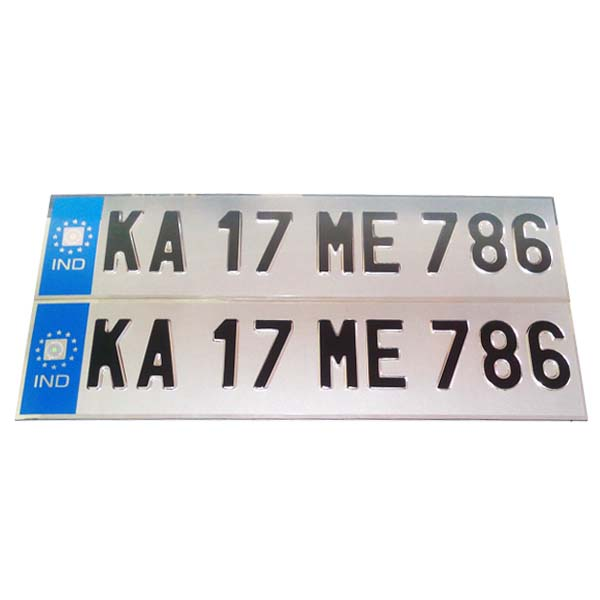inlp: (14, 301, 582, 422), (39, 191, 578, 299)
